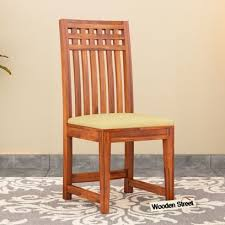tiyarina: (53, 13, 178, 217)
